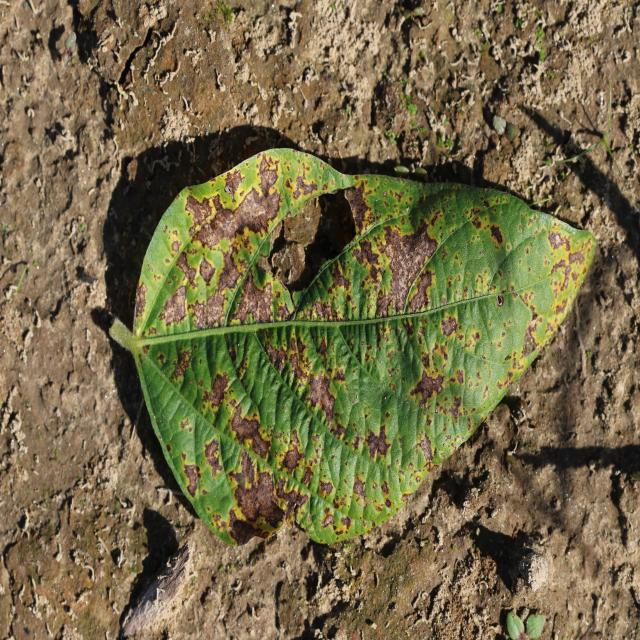Bacterial_Blight: (386, 222, 447, 318), (450, 210, 514, 286), (541, 231, 593, 310), (232, 462, 284, 528), (504, 279, 549, 353), (230, 271, 271, 326), (234, 184, 278, 234), (230, 406, 270, 457), (193, 190, 229, 237), (307, 370, 334, 421), (199, 257, 221, 315), (162, 285, 188, 329), (365, 423, 392, 460), (281, 437, 305, 475), (424, 362, 446, 402), (286, 162, 313, 190), (209, 372, 230, 407), (204, 437, 222, 470), (182, 463, 199, 497), (309, 297, 338, 314), (548, 230, 570, 251), (568, 245, 588, 265), (441, 315, 457, 337), (489, 224, 504, 246)
Soybean: (89, 129, 599, 558)
